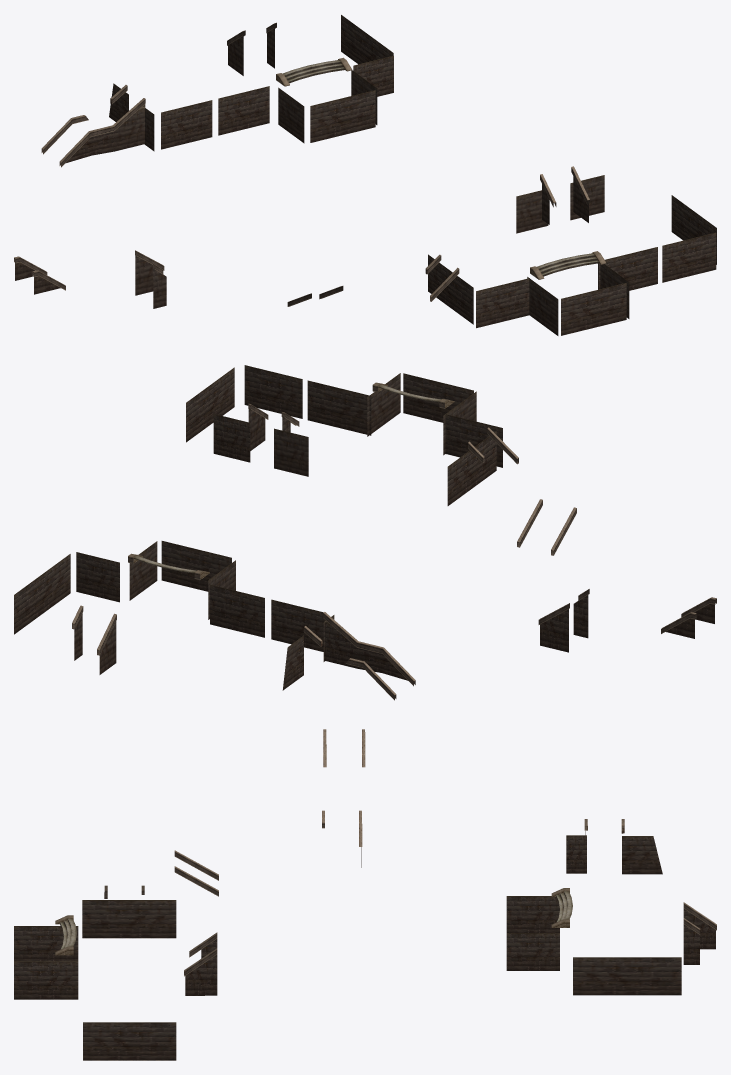
Rendered from rysd_qm_02.FBX.
The picture shows the model from 3 angles, top to bottom: view 1: azimuth 30°, elevation 25°; view 2: azimuth 150°, elevation 25°; view 3: azimuth 270°, elevation 25°; orthographic projection. The views are drawn at different scales.
Visible parts, largest first — view 1: rysd_qm_02; view 2: rysd_qm_02; view 3: rysd_qm_02.
Part boxes in pixels (left/top/right/bottom): rysd_qm_02: left=14, top=15, right=716, bottom=335; rysd_qm_02: left=14, top=365, right=716, bottom=700; rysd_qm_02: left=14, top=729, right=716, bottom=1060.
Bounding box in the file's own units: 9967 × 1528 × 10414.
